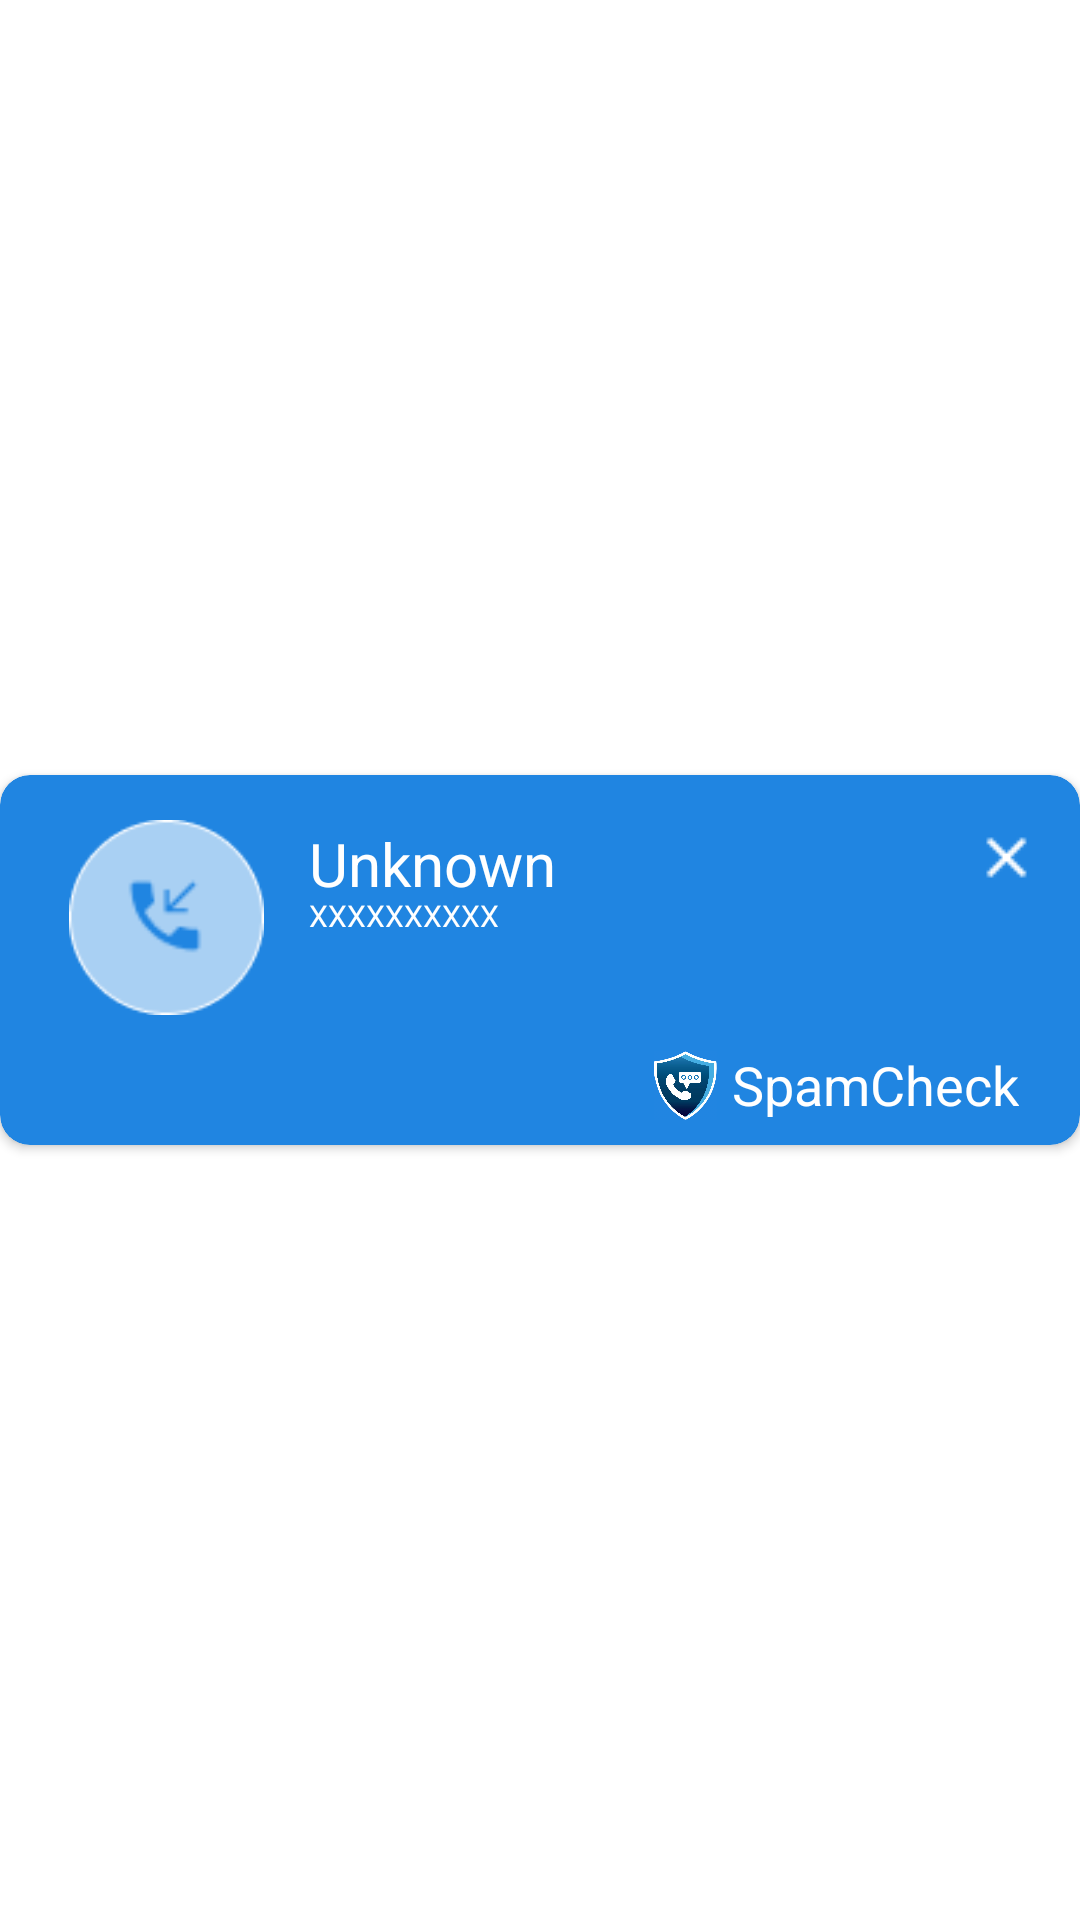

Where to tap for icons on this 1080×1920 app screen, as [x,y]:
close: [1006,857]
